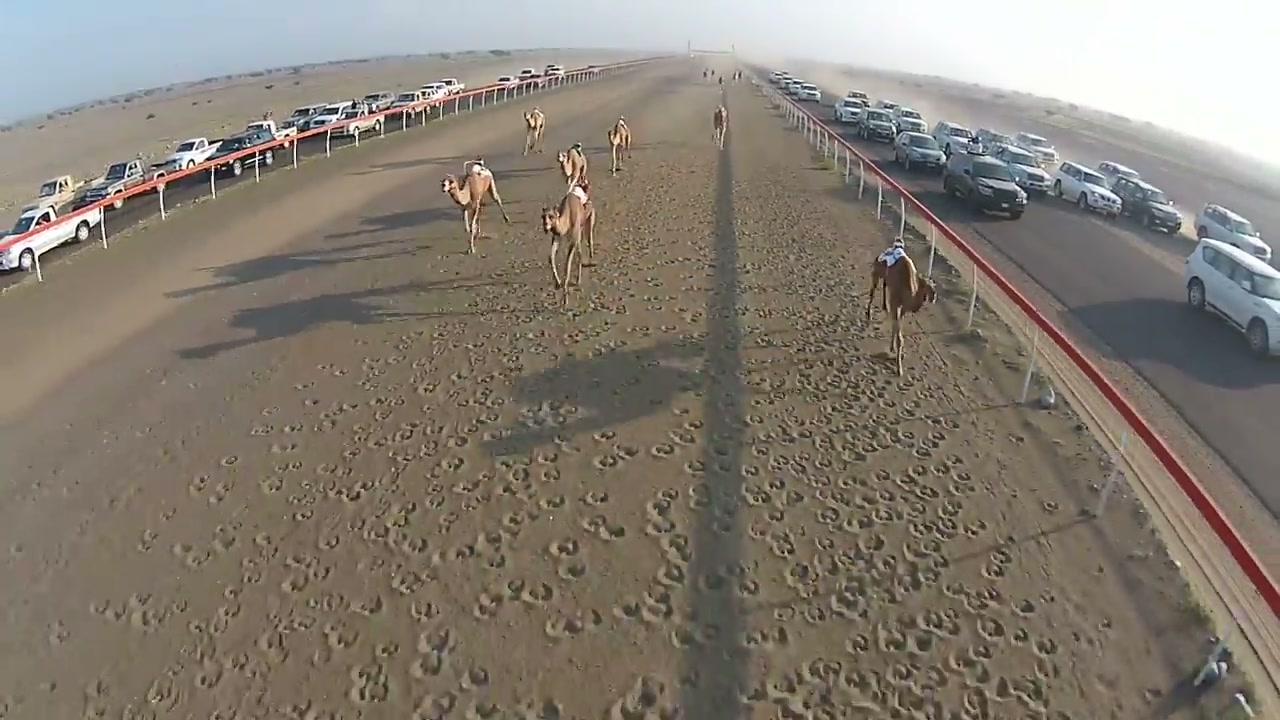animal_footprint: (0, 105, 1198, 719)
